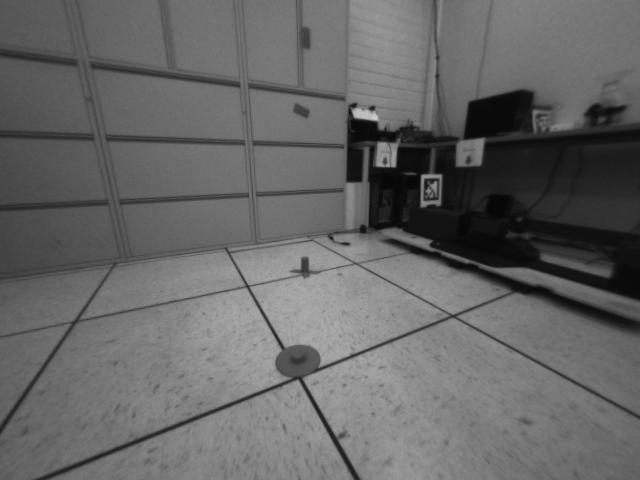X: (290, 256, 320, 280)
